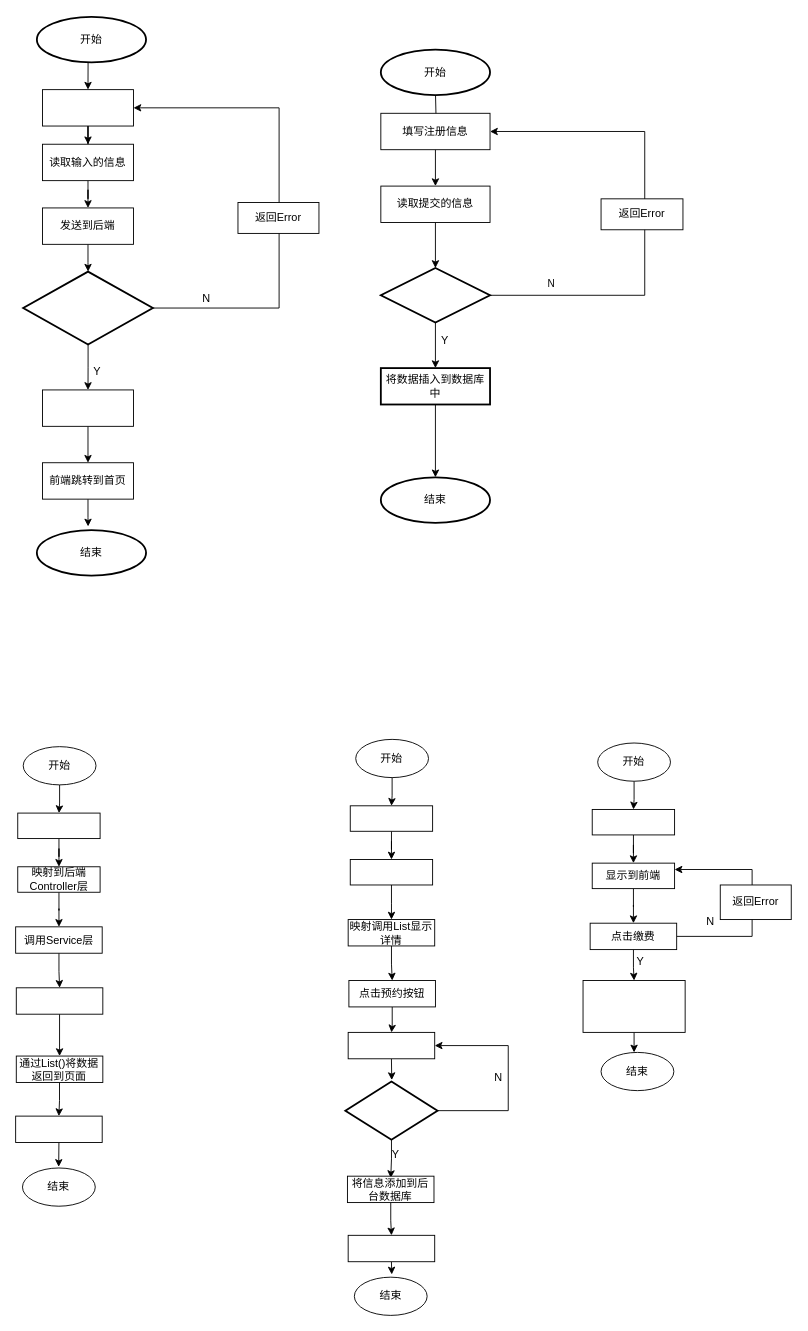
The diagram is 808 pixels wide and 1331 high, and some of its shapes have lost their labels. Each missing label, with the centre of its shape:
"判断信息是否为合法" goes at point (391, 1110).
"发出请求" goes at point (58, 825).
"后台数据状态将支付状态改为已支付" goes at point (633, 1006).
"后端导入物业费用数据" goes at point (633, 822).
"显示数据" goes at point (58, 1129).
"用户将信息填入" goes at point (391, 1045).
"用户输入账号密码" goes at point (87, 107).
"管理员查看并处理" goes at point (391, 1248).
"返回OK" goes at point (87, 407).
"选择服务" goes at point (391, 818).
"通过Controller调取方法" goes at point (391, 872).
"通过Dao层进行数据获取操作" goes at point (59, 1000).
"验证用户名是否存在" goes at point (434, 295).
"验证账号密码是否正确" goes at point (87, 307).
